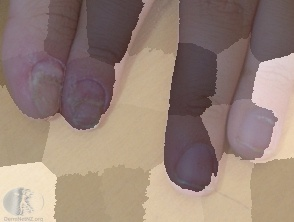Nail_psoriasis: (23, 56, 69, 121), (58, 78, 109, 136)
